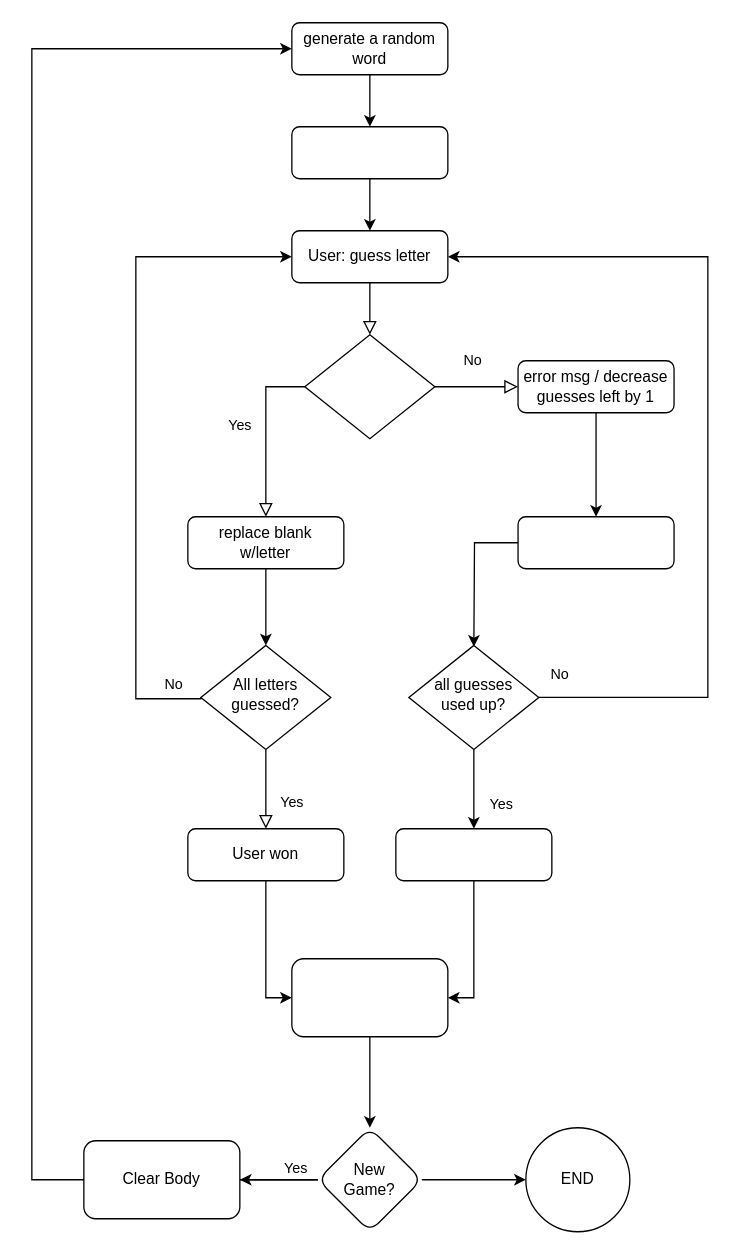
The diagram is 741 pixels wide and 1255 high, and some of its shapes have lost their labels. Here are the shapes that lost their labels. From the top down, the centre of each, then its label:
the point at 369,152: generate a blank for each letter
the point at 369,386: letter in word?
the point at 595,542: redraw/ add body part
the point at 473,854: User lost
the point at 369,997: GAME OVER
